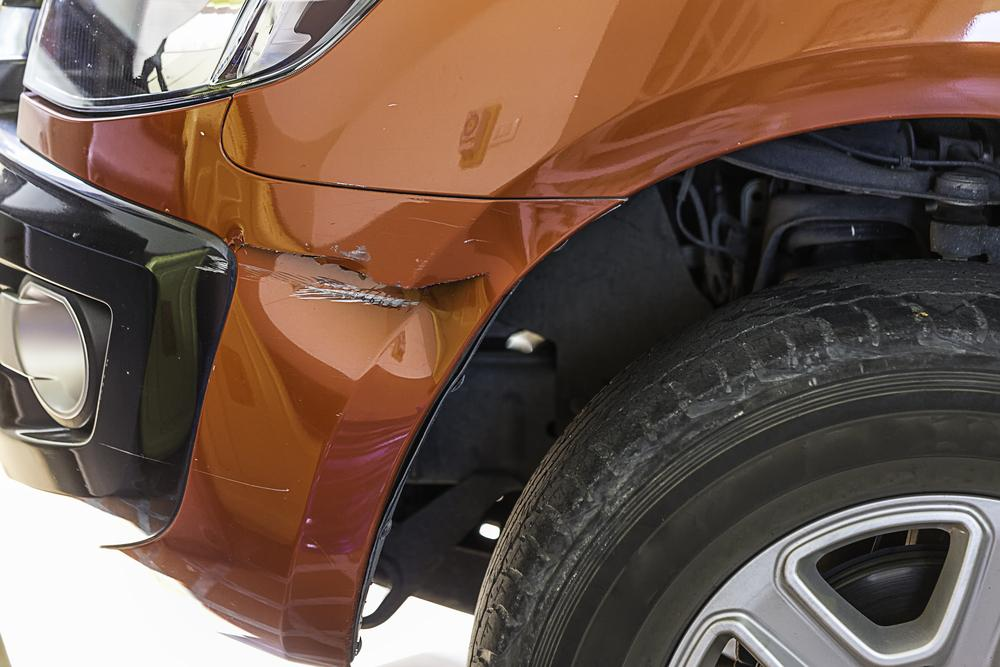crack: (235, 243, 486, 292)
dent: (258, 254, 487, 377)
